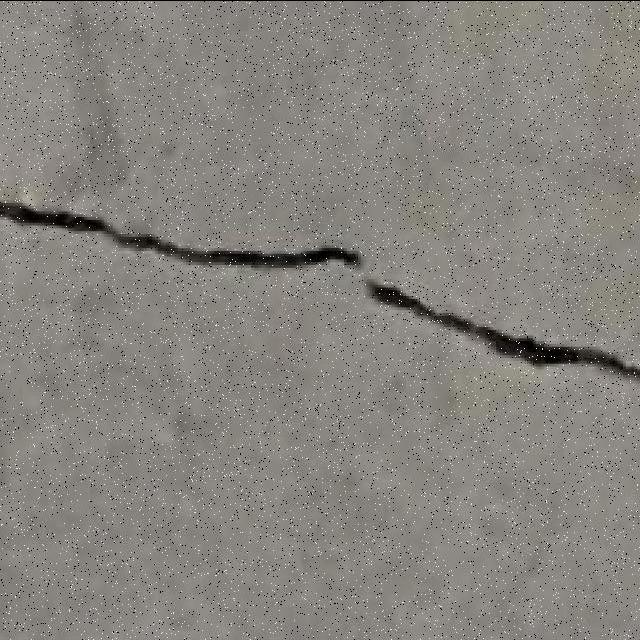Crack: (365, 279, 638, 378), (0, 200, 362, 269)
